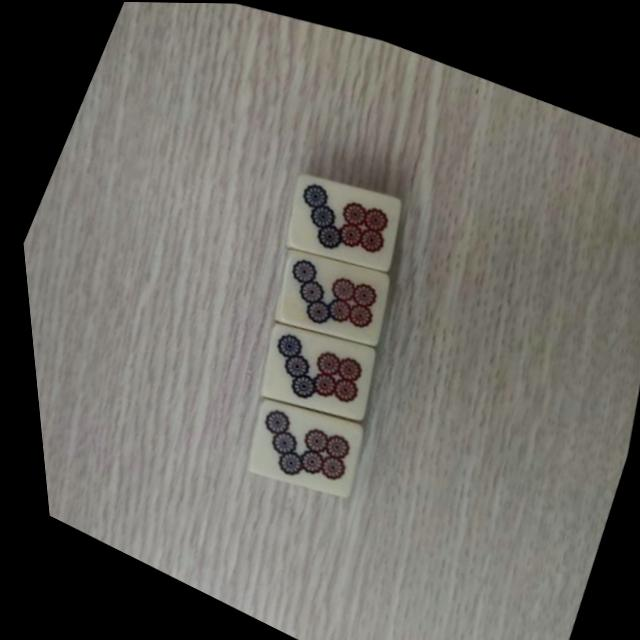sd7: (249, 308, 388, 432), (282, 157, 421, 281), (233, 384, 373, 507), (268, 236, 404, 357)
